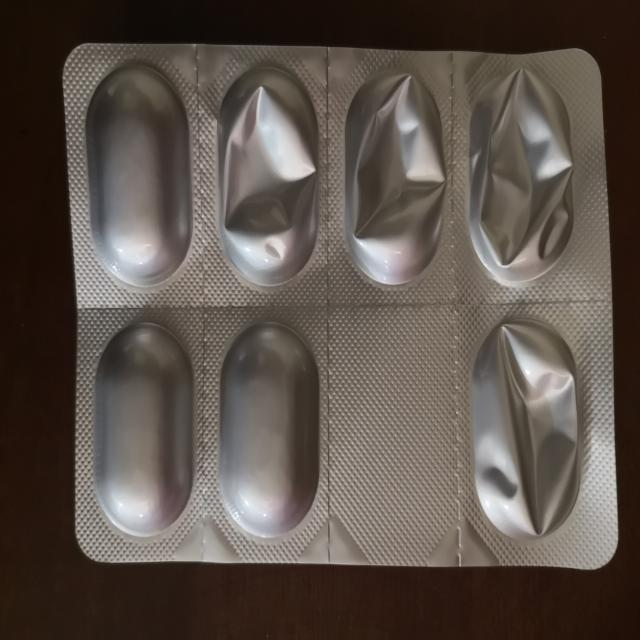Empty: (205, 57, 331, 291), (464, 316, 588, 545), (337, 64, 455, 292), (462, 67, 578, 290)
Pill: (76, 58, 197, 289), (211, 318, 324, 539), (87, 319, 198, 541)
